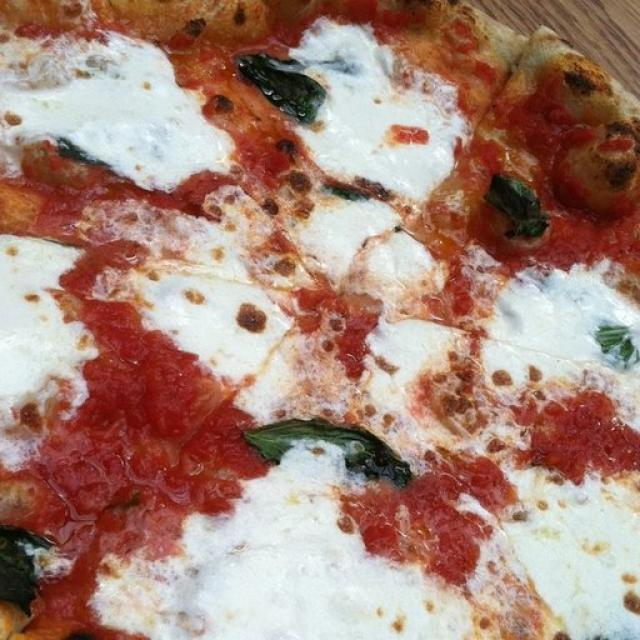Basil: (236, 408, 429, 497), (238, 47, 325, 122), (477, 185, 549, 238), (0, 538, 58, 598), (590, 313, 640, 373), (52, 132, 110, 172)
Cheese: (86, 465, 501, 640), (178, 201, 420, 424), (283, 0, 469, 231), (451, 251, 640, 420), (473, 451, 640, 640), (0, 228, 138, 444), (0, 37, 212, 176)
